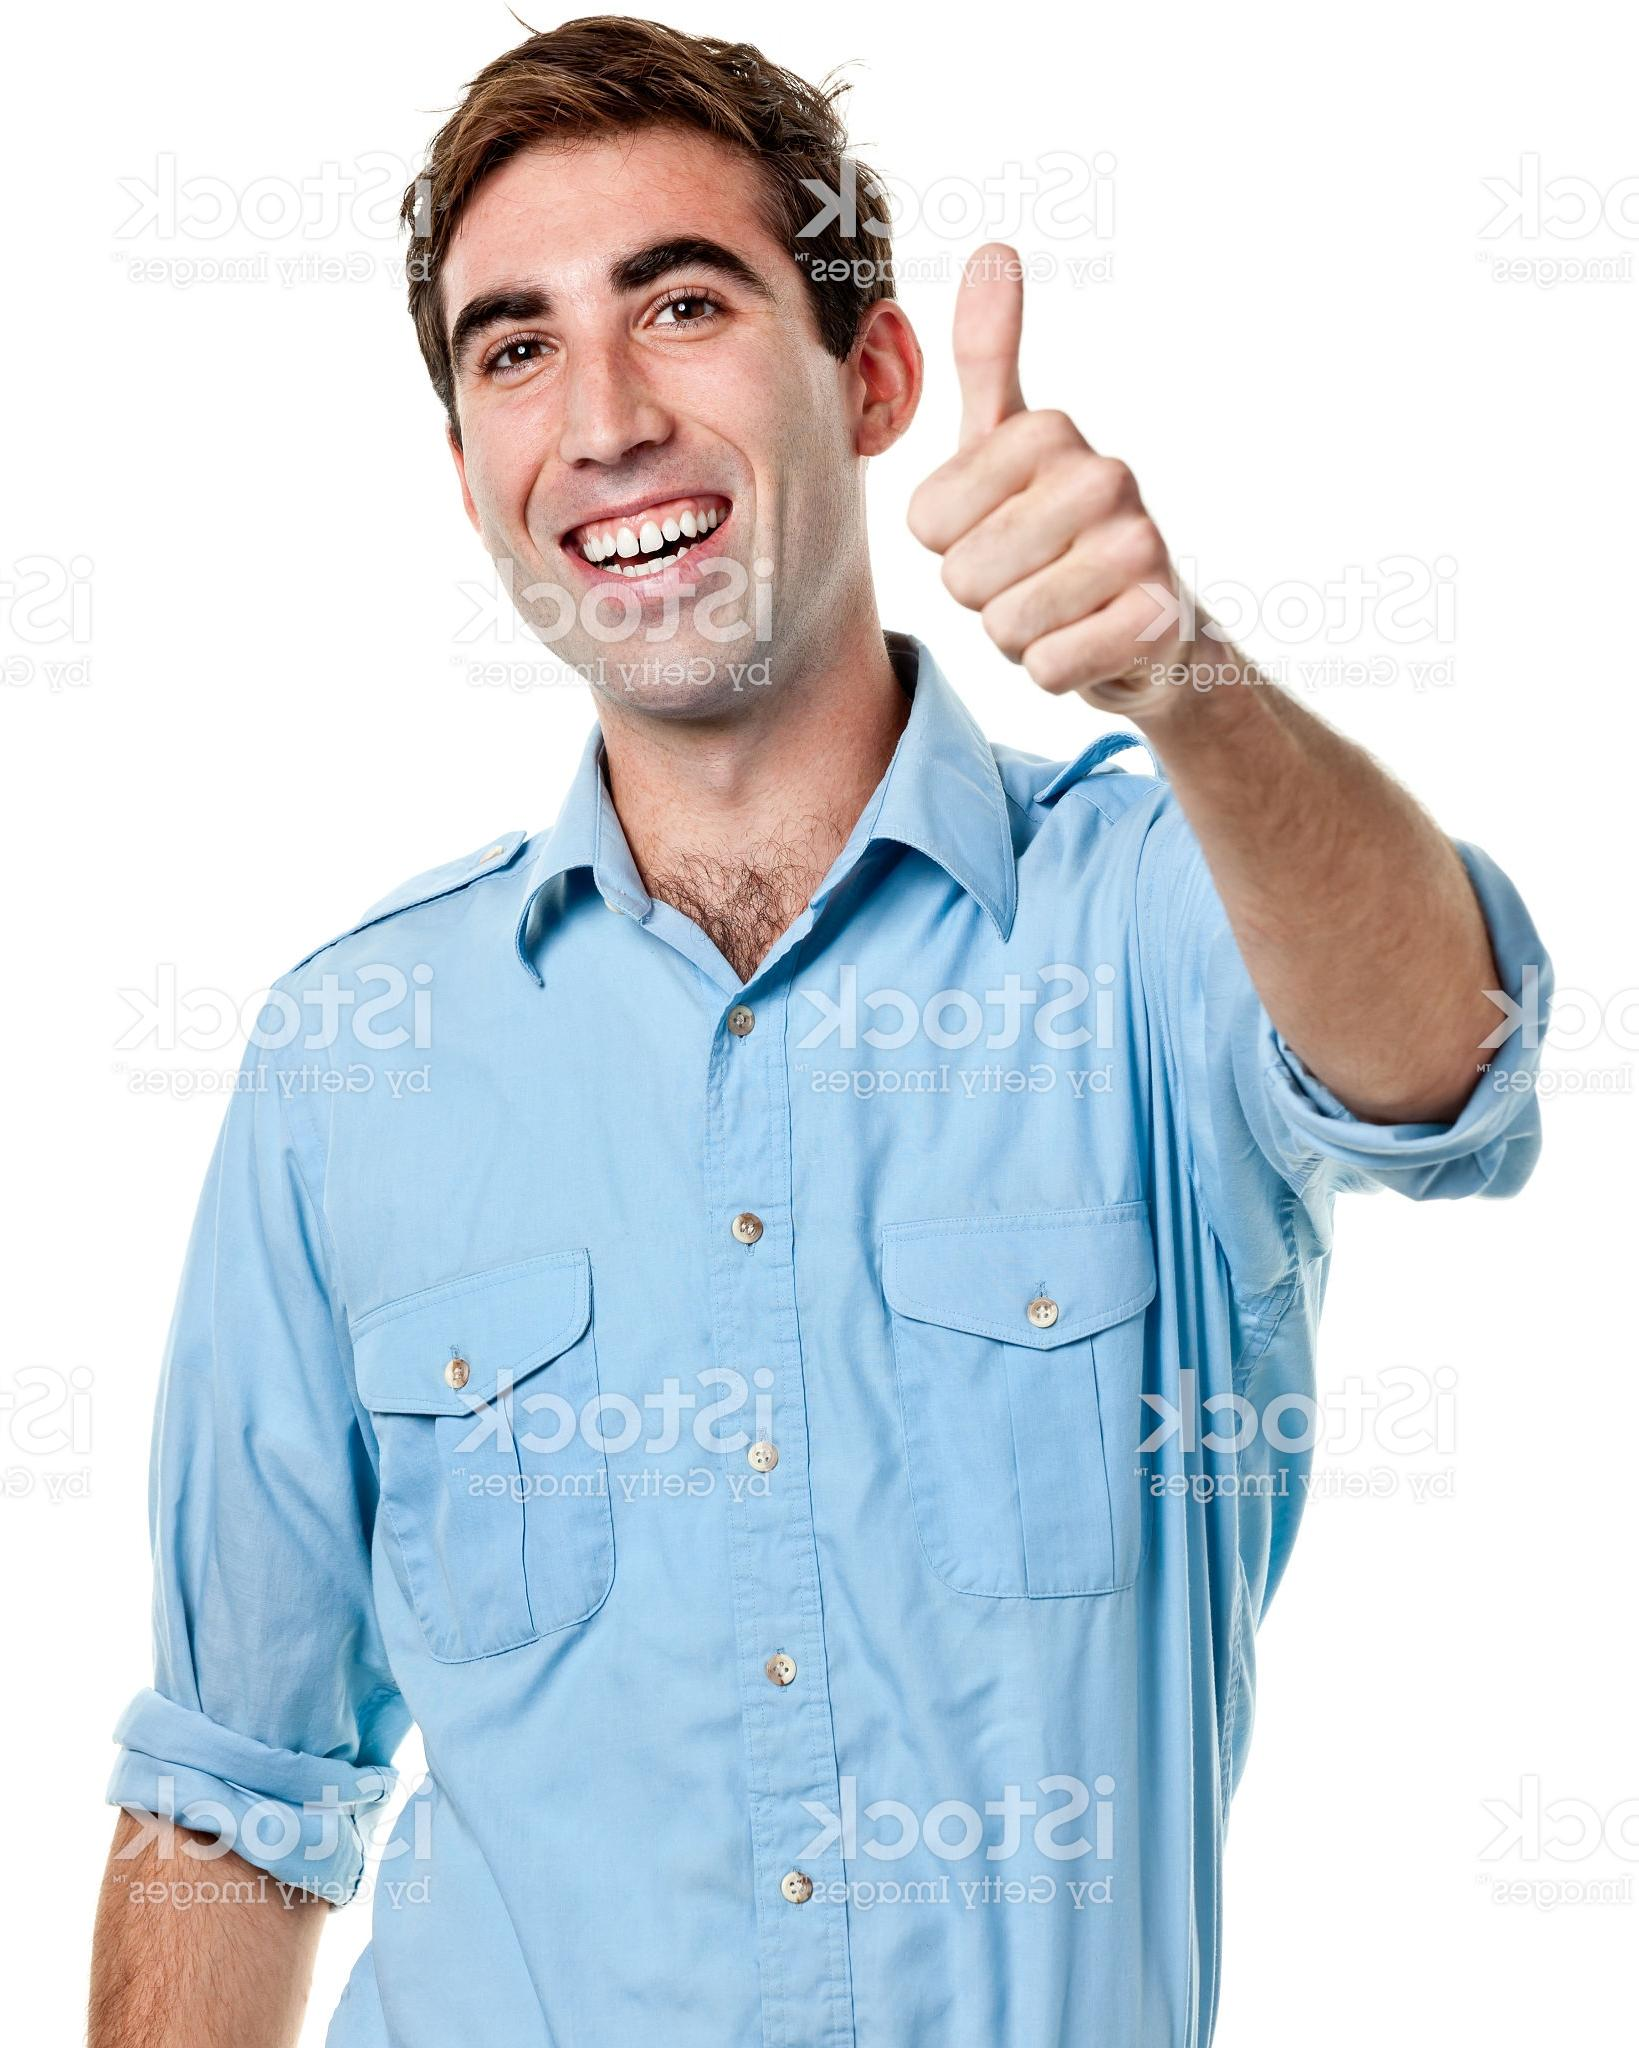thumbsup: (900, 241, 1182, 704)
